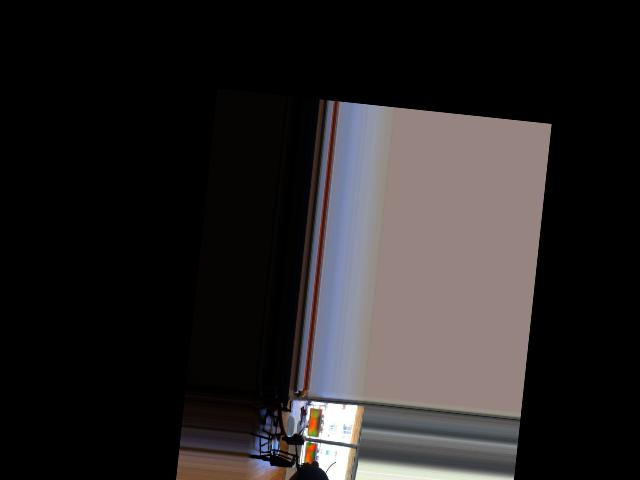beet: (288, 426, 338, 480)
